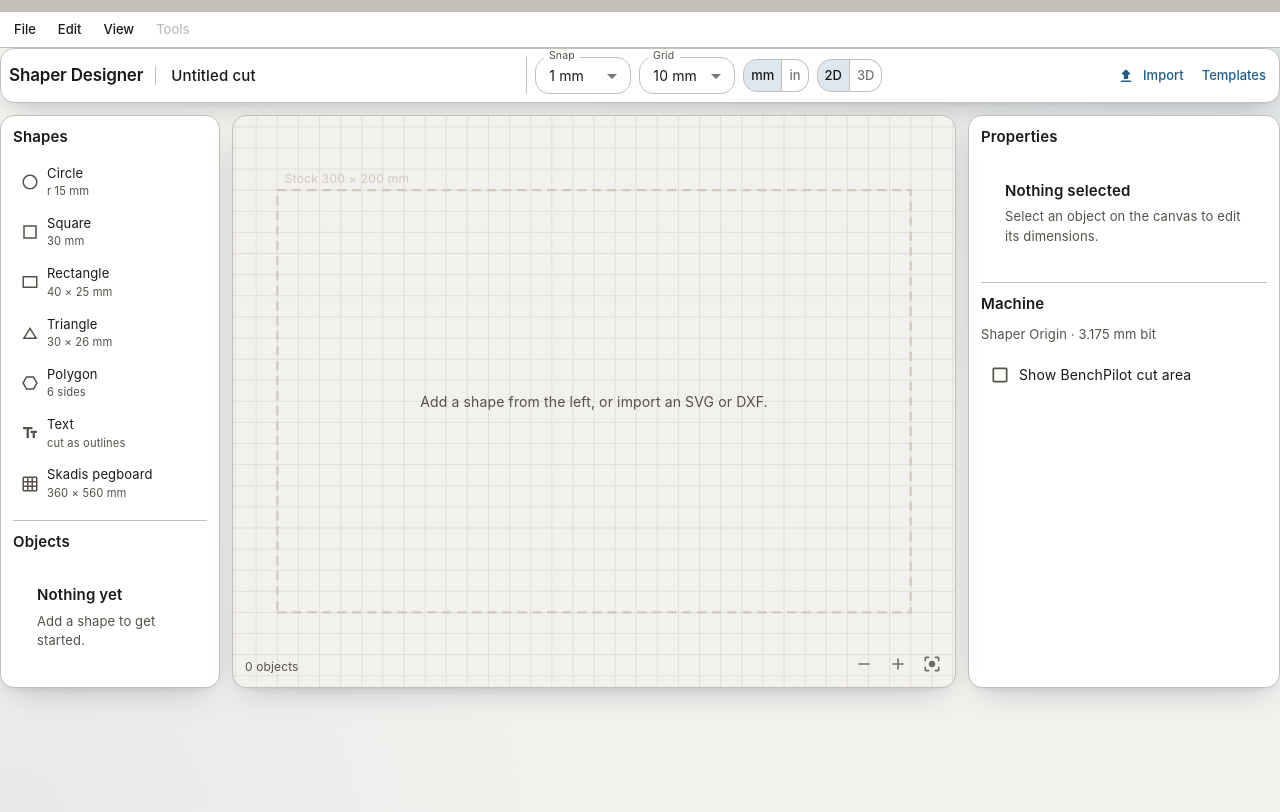
Scenario: adding a shape puts it in the object tree and the status line
This screenshot has width=1280, height=812.
Expected: the text "0 objects" is shown, [245,658,299,677]
Click the button "Rectangle 40 × 25 mm". click: (67, 282)
box: [21,265,112,299]
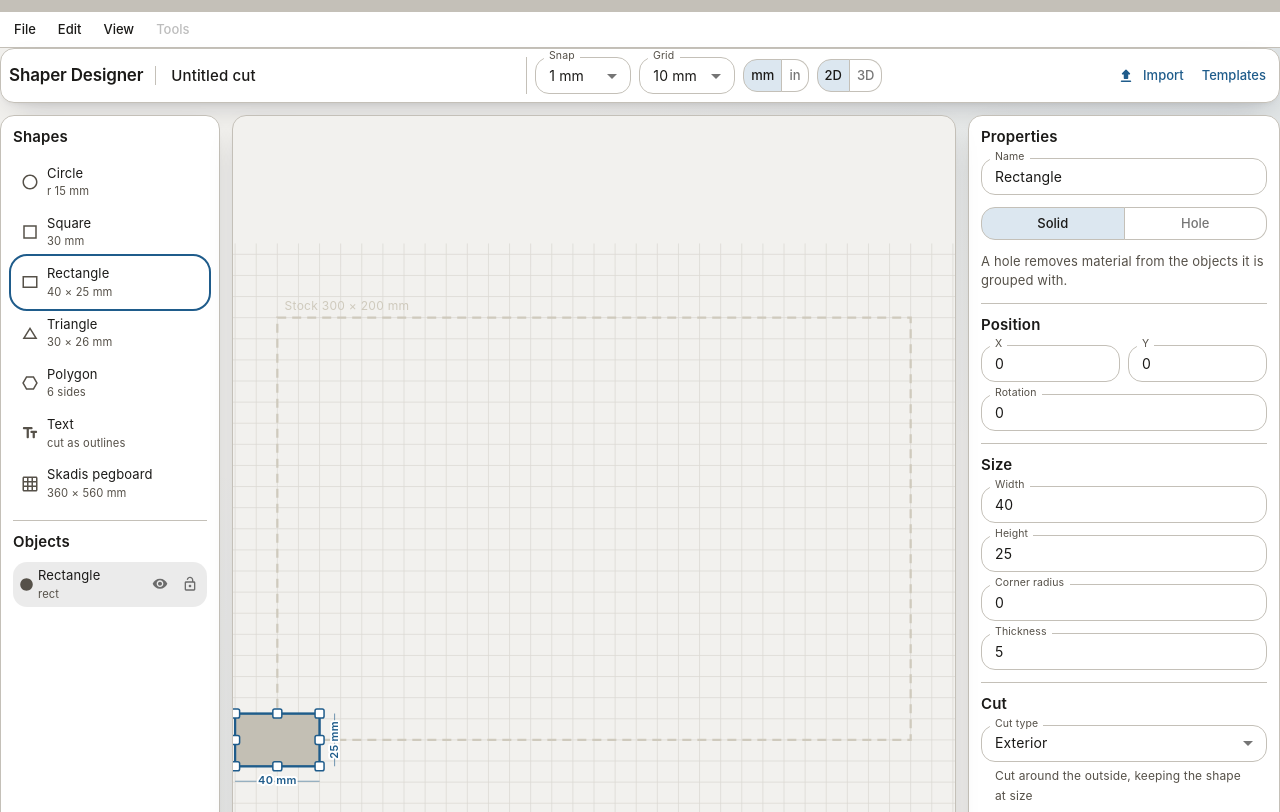
Expected: the list named "Objects" is shown, [13,562,207,606]
